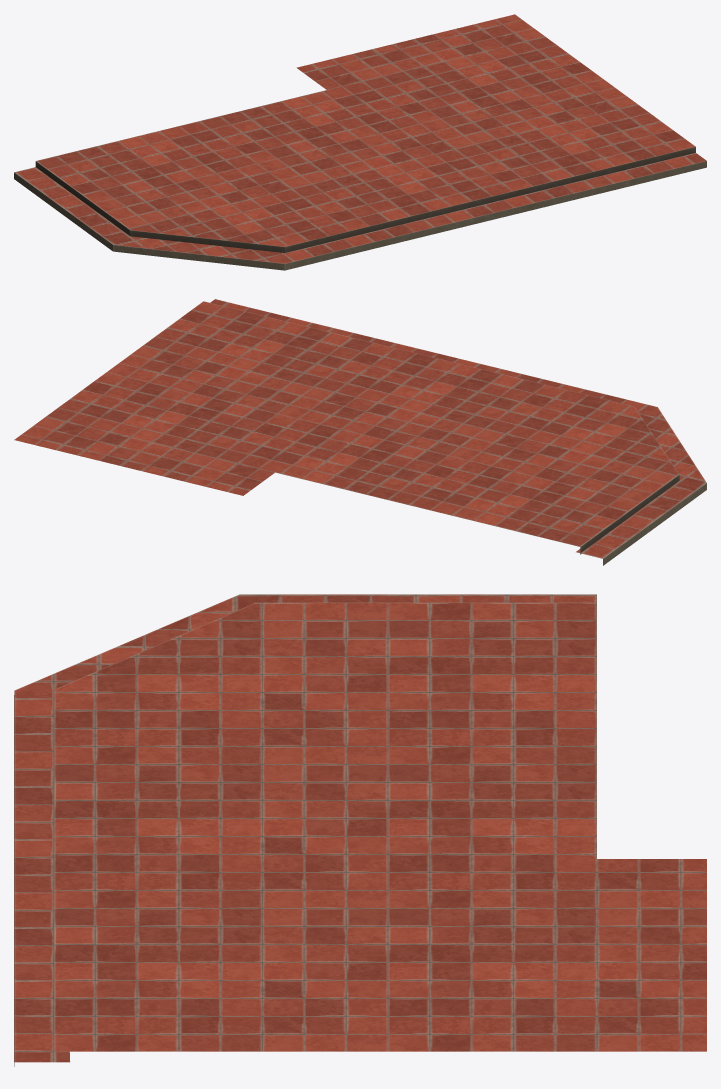
Rendered from SM_FloorKitchen.fbx.
The picture shows the model from 3 angles, top to bottom: view 1: azimuth 30°, elevation 25°; view 2: azimuth 150°, elevation 25°; view 3: azimuth 270°, elevation 25°; orthographic projection. The views are drawn at different scales.
Visible parts, largest first — view 1: SM_FloorKitchen_LOD0; view 2: SM_FloorKitchen_LOD0; view 3: SM_FloorKitchen_LOD0.
Part boxes in pixels (<box>): SM_FloorKitchen_LOD0: <box>14,14,706,270</box>; SM_FloorKitchen_LOD0: <box>14,299,706,565</box>; SM_FloorKitchen_LOD0: <box>14,594,706,1066</box>.
Size of the model in its own units: 881 by 551 by 20.1.
1 material, 1 textured.
